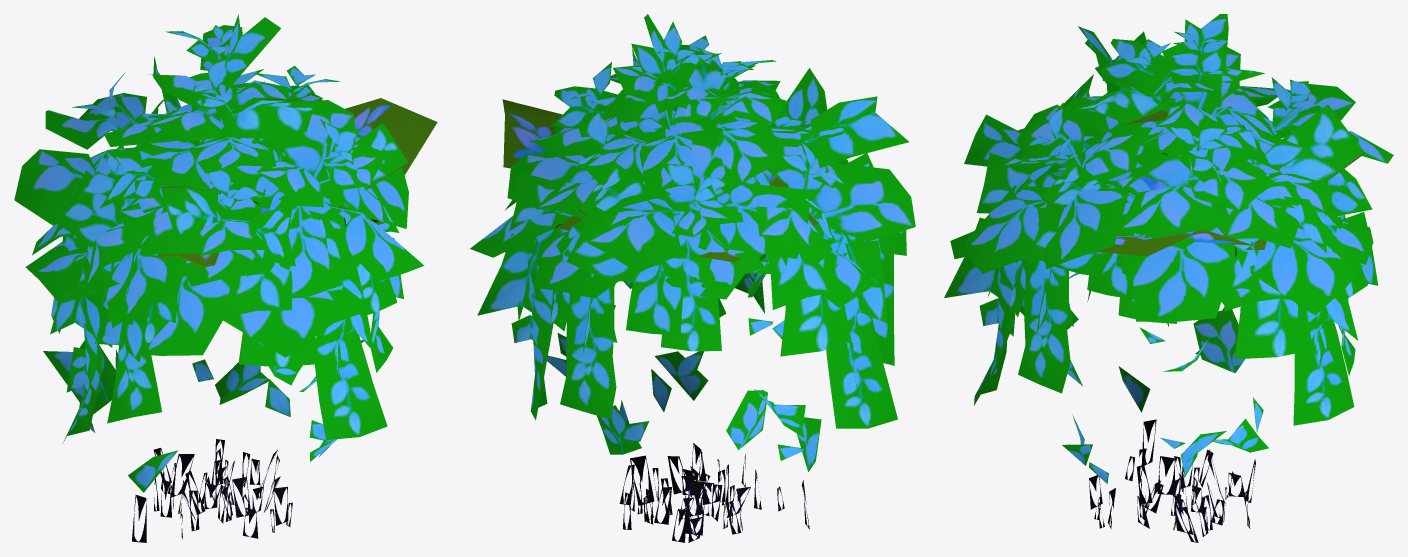
File: Homeworld_Exterior_Common_Flower_Decoration_Green_01_A_Lod0.fbx
3 renders of one model, left to right at view 1: azimuth 30°, elevation 25°; view 2: azimuth 150°, elevation 25°; view 3: azimuth 270°, elevation 25°, orthographic. The views are drawn at different scales.
Parts seen in each view (by area): view 1: Homeworld_Exterior_Common_Flower_Decoration_Green_01_A_Lod0; view 2: Homeworld_Exterior_Common_Flower_Decoration_Green_01_A_Lod0; view 3: Homeworld_Exterior_Common_Flower_Decoration_Green_01_A_Lod0.
Boxes of the visible parts, x1,y1,x2,y2 form: Homeworld_Exterior_Common_Flower_Decoration_Green_01_A_Lod0: [14, 14, 437, 542]; Homeworld_Exterior_Common_Flower_Decoration_Green_01_A_Lod0: [470, 14, 915, 542]; Homeworld_Exterior_Common_Flower_Decoration_Green_01_A_Lod0: [944, 14, 1393, 542].
Bounding box in the file's own units: 1.65 × 1.97 × 1.62.
